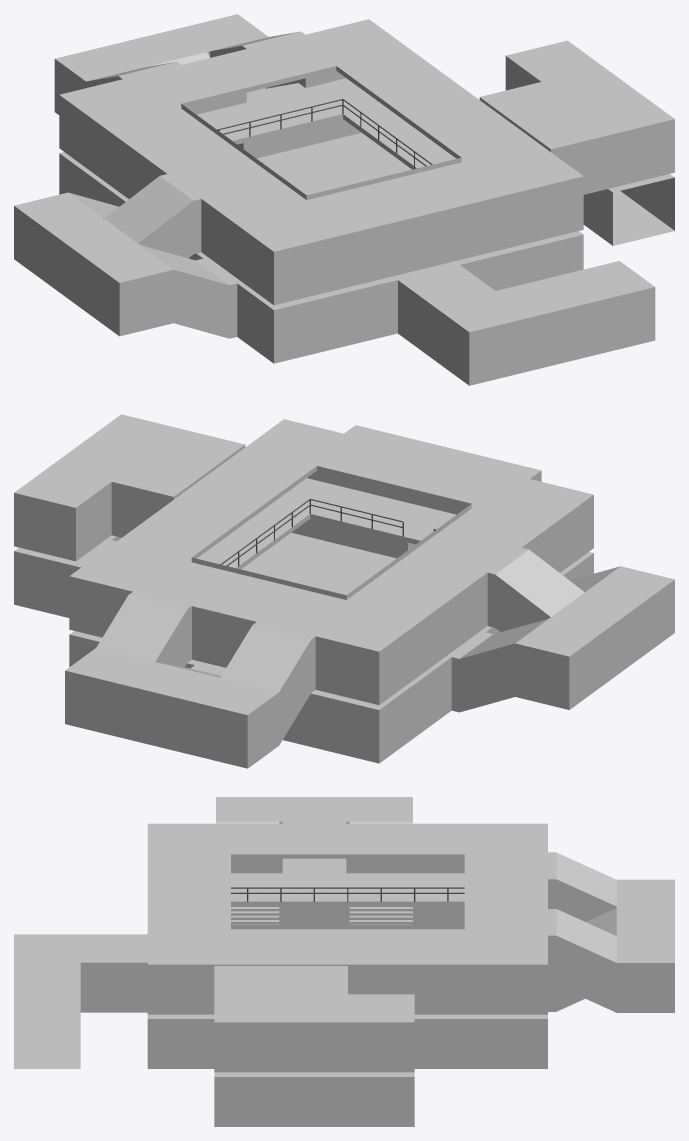
The model's file is Bond_Level_02_V6.fbx.
The picture shows the model from 3 angles, top to bottom: view 1: azimuth 30°, elevation 25°; view 2: azimuth 150°, elevation 25°; view 3: azimuth 270°, elevation 25°; orthographic projection. The views are drawn at different scales.
Parts seen in each view (by area): view 1: FirstFloor.001, Stairway.001, GroundFloorV2, Hallway01, Room01, Stairway, Hallway02; view 2: FirstFloor.001, Stairway, Stairway.001, Room01, GroundFloorV2, Hallway02, Hallway01; view 3: FirstFloor.001, Room01, Stairway, Hallway01, GroundFloorV2, Hallway02, Stairway.001, Stairs.001.
Part boxes in pixels (x1=…): FirstFloor.001: x1=59, y1=19, x2=583, y2=305; Stairway.001: x1=14, y1=174, x2=237, y2=338; GroundFloorV2: x1=59, y1=119, x2=583, y2=363; Hallway01: x1=398, y1=261, x2=655, y2=385; Room01: x1=480, y1=40, x2=674, y2=194; Stairway: x1=54, y1=14, x2=306, y2=149; Hallway02: x1=583, y1=174, x2=674, y2=245; FirstFloor.001: x1=69, y1=419, x2=593, y2=704; Stairway: x1=65, y1=591, x2=317, y2=768; Stairway.001: x1=451, y1=547, x2=674, y2=712; Room01: x1=14, y1=414, x2=245, y2=561; GroundFloorV2: x1=69, y1=519, x2=593, y2=763; Hallway02: x1=14, y1=535, x2=121, y2=617; Hallway01: x1=344, y1=425, x2=541, y2=549; FirstFloor.001: x1=147, y1=823, x2=547, y2=1014; Room01: x1=214, y1=966, x2=414, y2=1072; Stairway: x1=548, y1=852, x2=674, y2=1012; Hallway01: x1=14, y1=934, x2=147, y2=1068; GroundFloorV2: x1=147, y1=906, x2=547, y2=1068; Hallway02: x1=214, y1=1072, x2=414, y2=1126; Stairway.001: x1=216, y1=797, x2=414, y2=924; Stairs.001: x1=231, y1=858, x2=412, y2=924.
Size of the model in its own units: 3580 by 720 by 3960.
